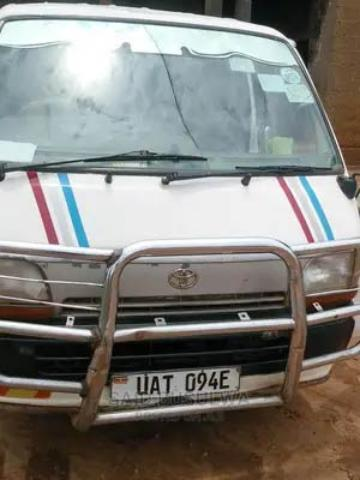van: (0, 4, 352, 423)
